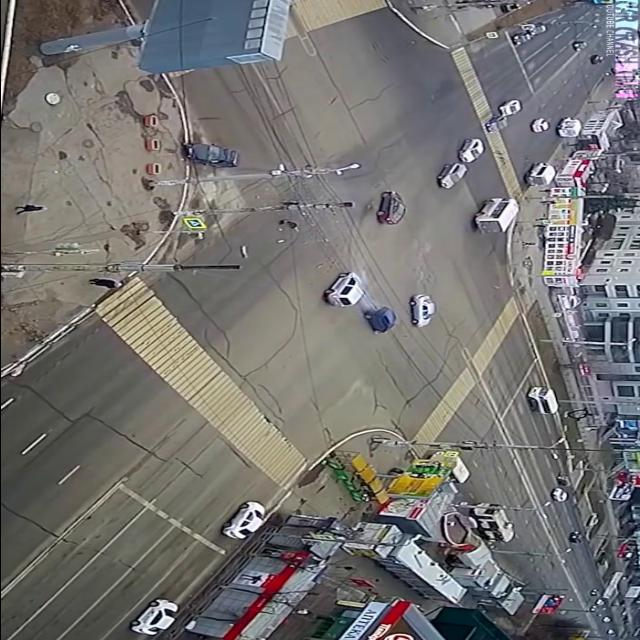accident: (315, 270, 405, 337), (170, 136, 250, 170)
non_accident: (430, 136, 490, 191), (479, 98, 525, 136)
